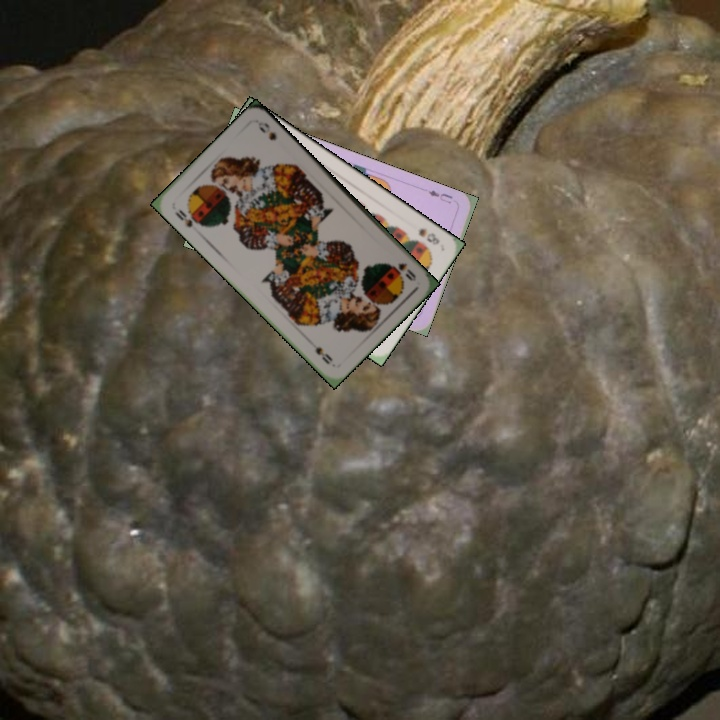EU: (424, 186, 455, 206)
S8: (414, 224, 442, 248)
SO: (394, 259, 418, 284), (171, 205, 195, 230)
